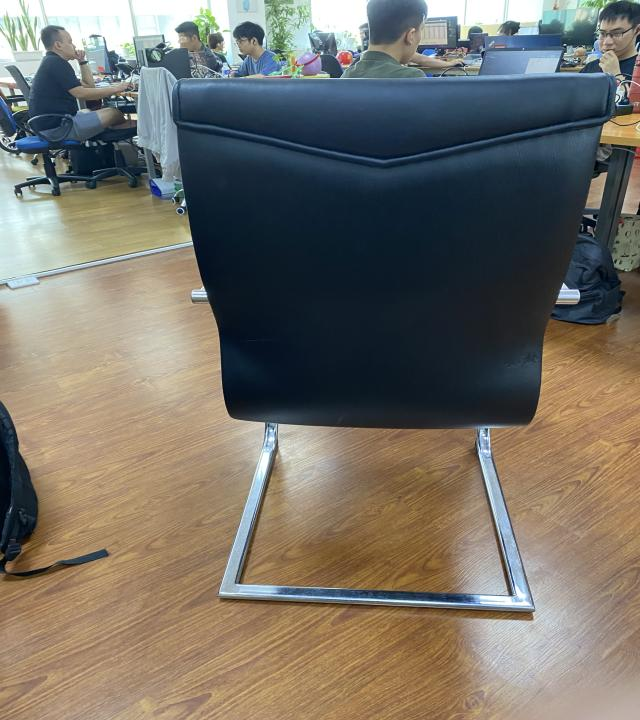SS_03: (169, 68, 624, 616)
